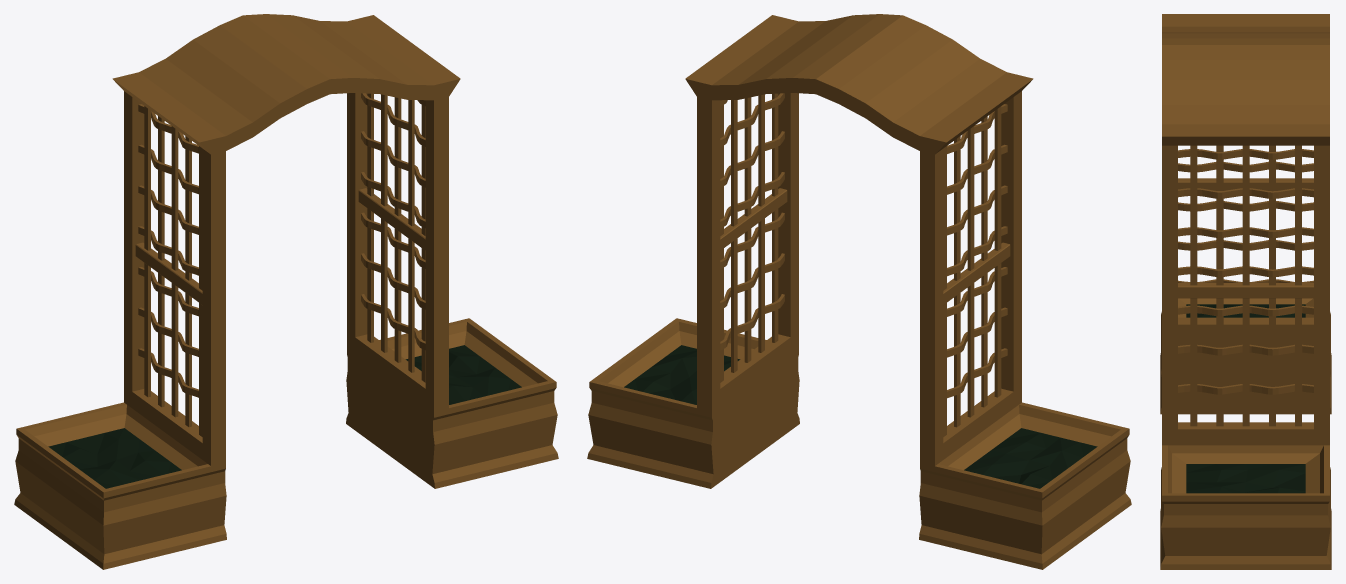
The model's file is GardenArc02.fbx.
3 views of the same model, side by side, from view 1: azimuth 30°, elevation 25°; view 2: azimuth 150°, elevation 25°; view 3: azimuth 270°, elevation 25° (orthographic). The views are drawn at different scales.
Parts seen in each view (by area): view 1: GardenArcDecor02; view 2: GardenArcDecor02; view 3: GardenArcDecor02.
Part boxes in pixels (x1,y1,x2,y2): GardenArcDecor02: [14, 14, 558, 569]; GardenArcDecor02: [587, 14, 1131, 569]; GardenArcDecor02: [1160, 14, 1331, 569].
Size of the model in its own units: 260 by 237 by 88.19.
